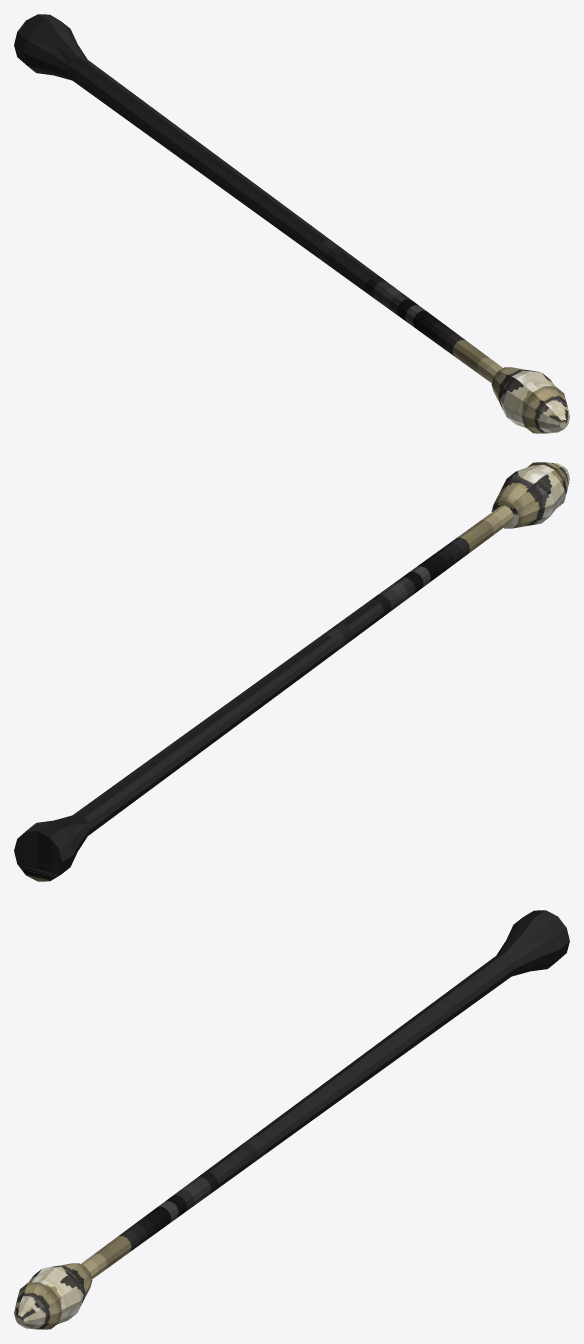
File: pz_street_pole_05.obj
The picture shows the model from 3 angles, top to bottom: view 1: azimuth 30°, elevation 25°; view 2: azimuth 150°, elevation 25°; view 3: azimuth 330°, elevation 25°; orthographic projection.
Visible parts, largest first — view 1: pz_street_pole_05_|_tapered_native_street_pole, pz_street_pole_05_|_curved_native_lantern_glass, pz_street_pole_05_|_lantern_cap; view 2: pz_street_pole_05_|_tapered_native_street_pole, pz_street_pole_05_|_curved_native_lantern_glass; view 3: pz_street_pole_05_|_tapered_native_street_pole, pz_street_pole_05_|_curved_native_lantern_glass, pz_street_pole_05_|_lantern_cap.
Boxes of the visible parts, x1,y1,x2,y2 form: pz_street_pole_05_|_tapered_native_street_pole: [14, 14, 502, 383]; pz_street_pole_05_|_curved_native_lantern_glass: [491, 367, 555, 428]; pz_street_pole_05_|_lantern_cap: [521, 386, 569, 433]; pz_street_pole_05_|_tapered_native_street_pole: [14, 505, 513, 881]; pz_street_pole_05_|_curved_native_lantern_glass: [491, 464, 564, 528]; pz_street_pole_05_|_tapered_native_street_pole: [81, 910, 569, 1279]; pz_street_pole_05_|_curved_native_lantern_glass: [28, 1263, 92, 1324]; pz_street_pole_05_|_lantern_cap: [14, 1282, 62, 1329].
Size of the model in its own units: 0.15 by 0.15 by 2.69.
2 materials, 2 textured.
